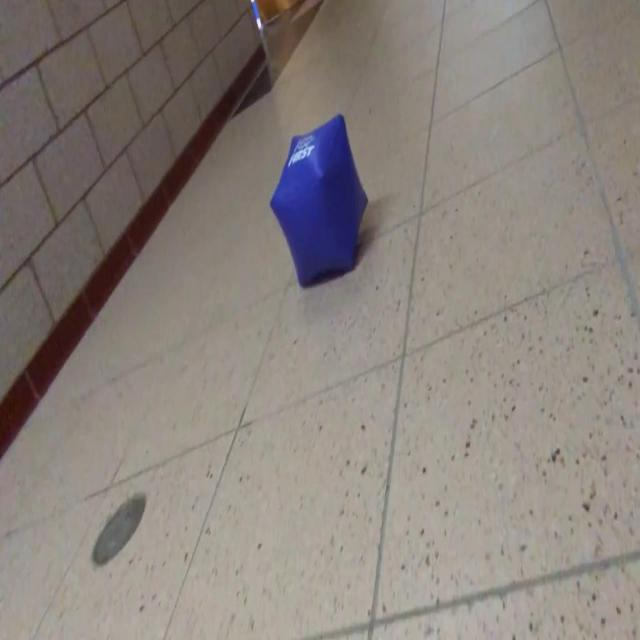frc_cube: (268, 114, 368, 284)
